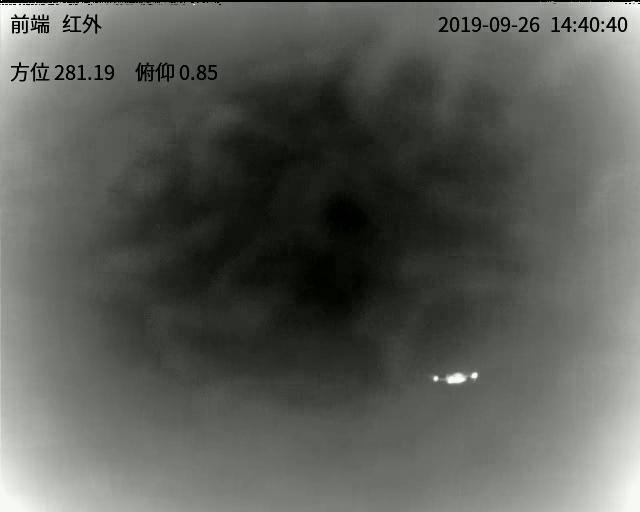DRONE: (426, 370, 479, 386)
